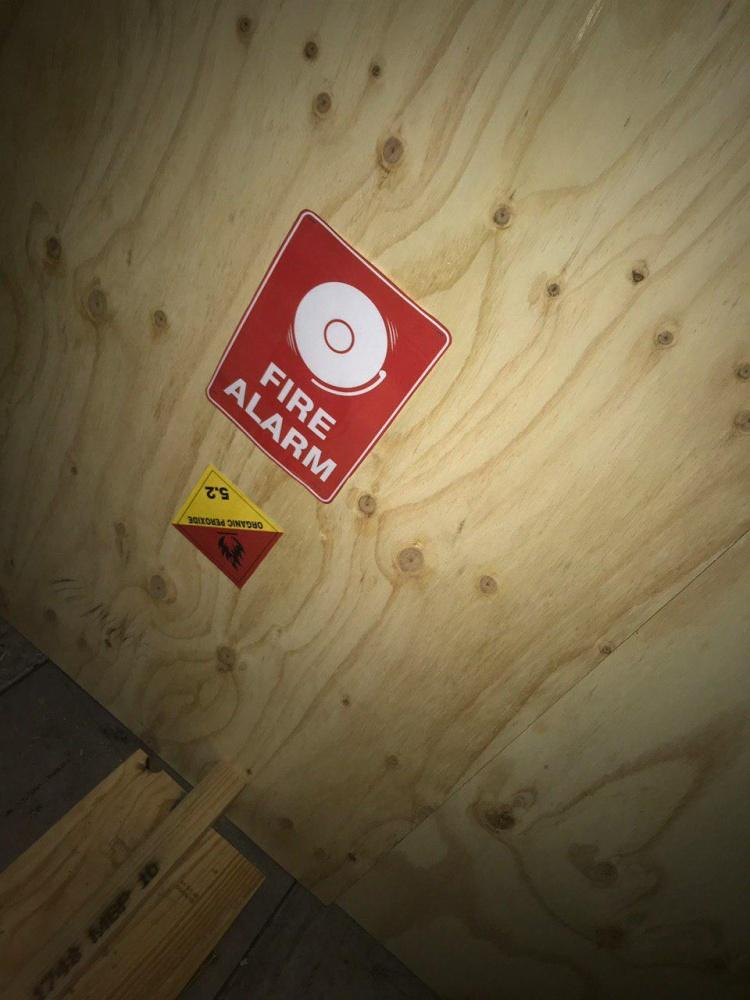organic-peroxide: (172, 464, 286, 593)
